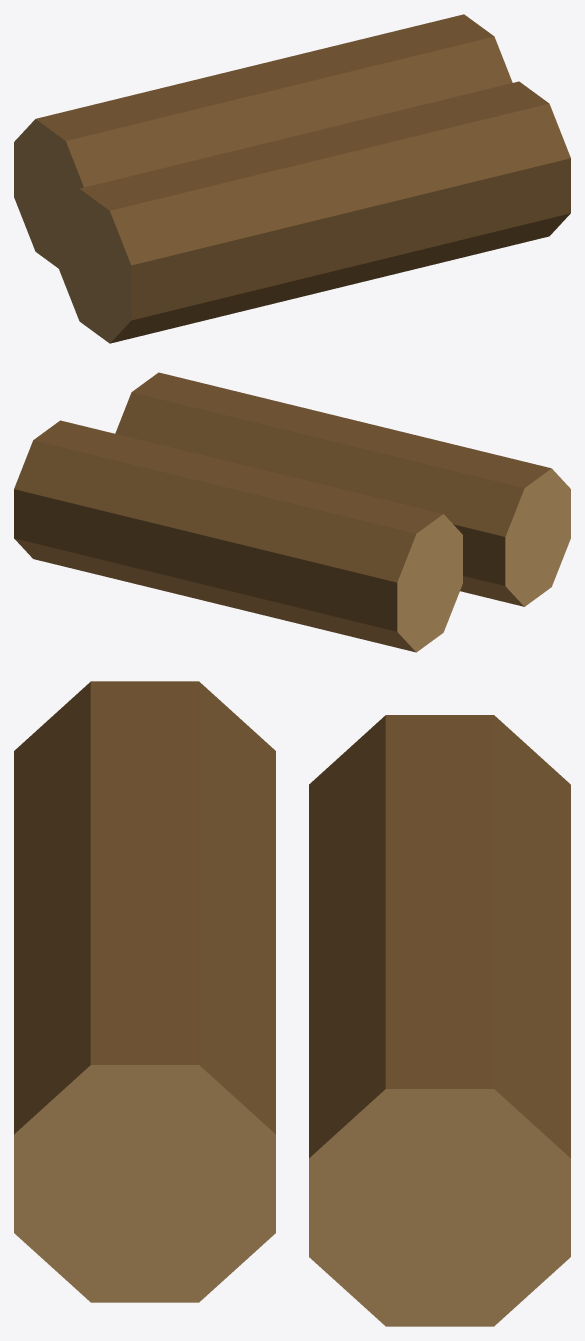
File: item_rm_logs_b.obj
3 views of the same model, one above another, from view 1: azimuth 30°, elevation 25°; view 2: azimuth 150°, elevation 25°; view 3: azimuth 270°, elevation 25° (orthographic). The views are drawn at different scales.
Bounding box in the file's own units: 0.85 × 0.231 × 0.491.
